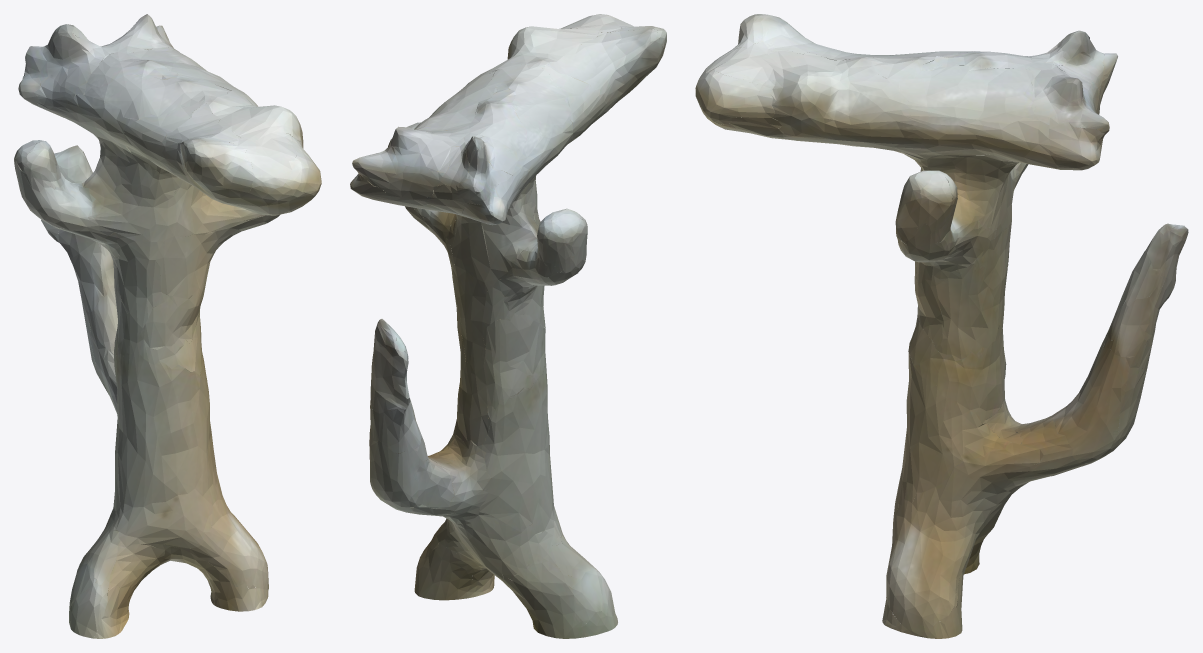
File: Toothless2 Bake.glb
3 renders of one model, left to right at view 1: azimuth 30°, elevation 25°; view 2: azimuth 150°, elevation 25°; view 3: azimuth 270°, elevation 25°, orthographic. The views are drawn at different scales.
Parts seen in each view (by area): view 1: Mesh_0; view 2: Mesh_0; view 3: Mesh_0.
Part boxes in pixels (x1,y1,x2,y2): Mesh_0: (14, 14, 321, 638); Mesh_0: (350, 14, 666, 638); Mesh_0: (695, 14, 1188, 638).
Size of the model in its own units: 0.255 by 0.5579 by 0.4548.
1 material, 1 textured.
